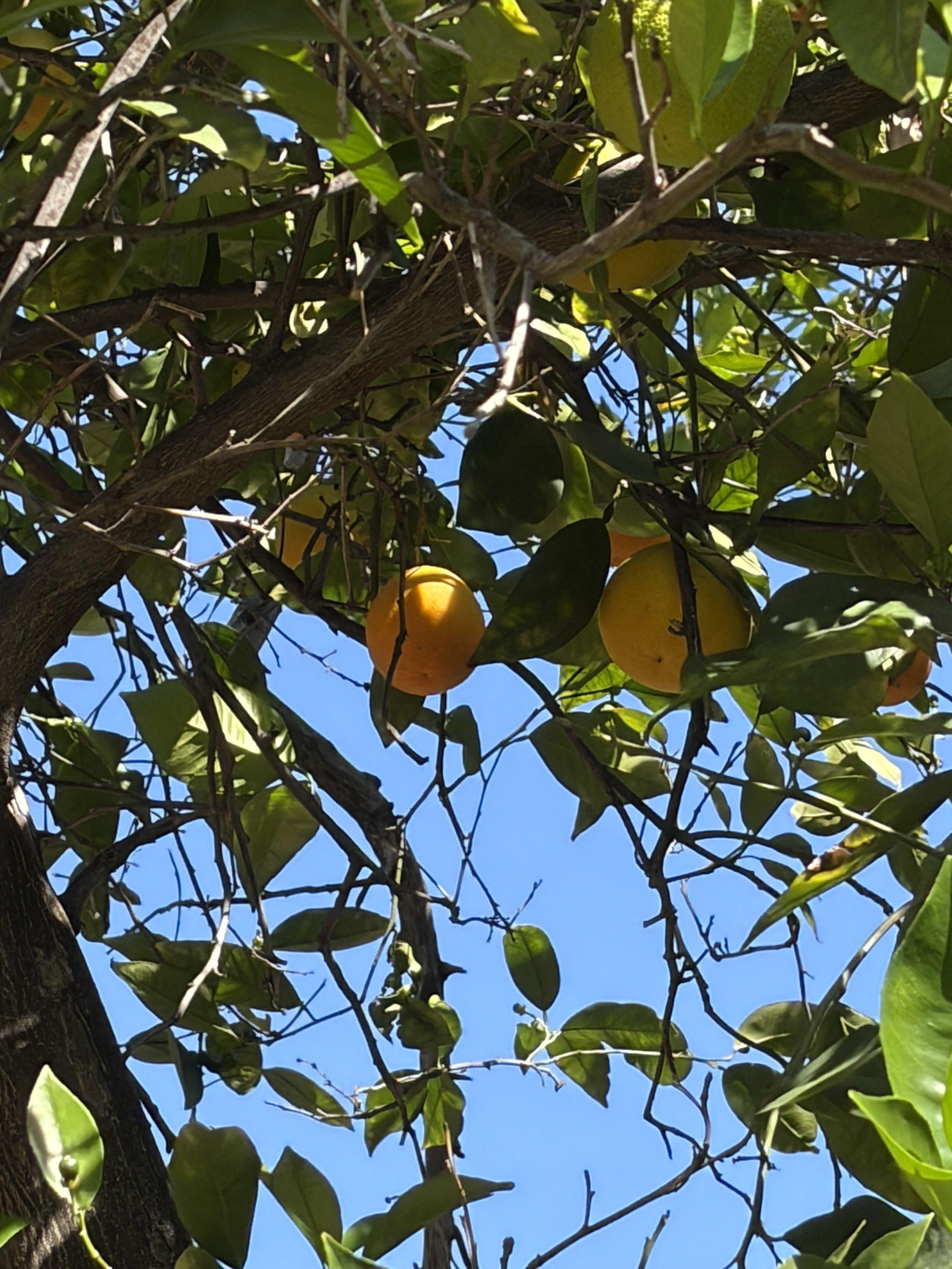orange: (588, 0, 796, 167), (598, 540, 757, 693), (551, 130, 699, 293), (366, 564, 486, 696), (0, 28, 85, 137), (278, 477, 342, 570), (883, 651, 932, 705), (610, 530, 667, 567)
